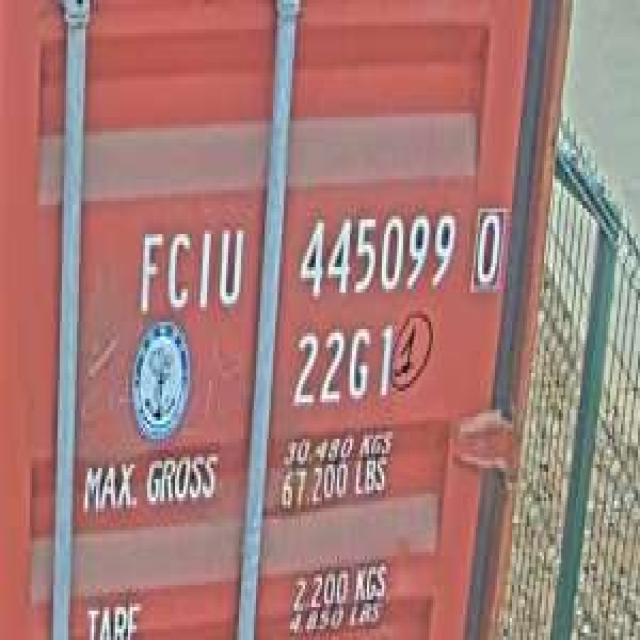dv: (469, 194, 508, 296)
owner: (132, 216, 245, 322)
serial: (292, 201, 459, 304)
size: (286, 315, 399, 413)
